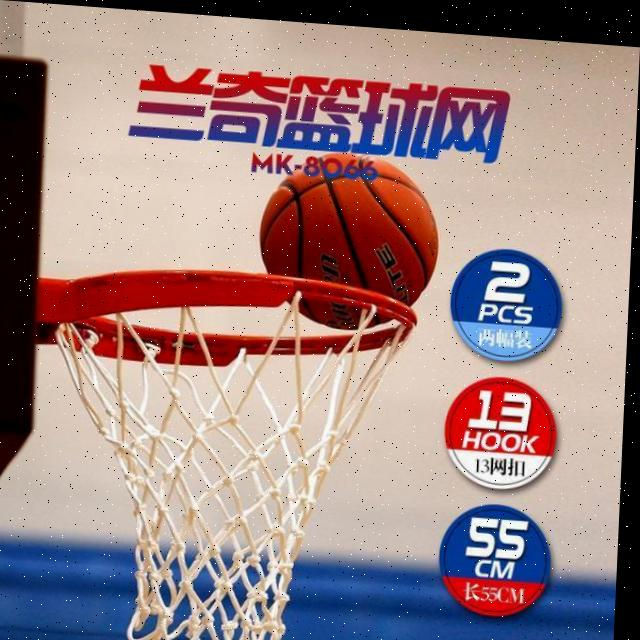basketball: (255, 147, 444, 337)
hoop: (43, 258, 418, 640)
